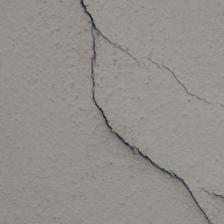Crack: (92, 31, 210, 221), (84, 3, 142, 66), (156, 60, 220, 112)
